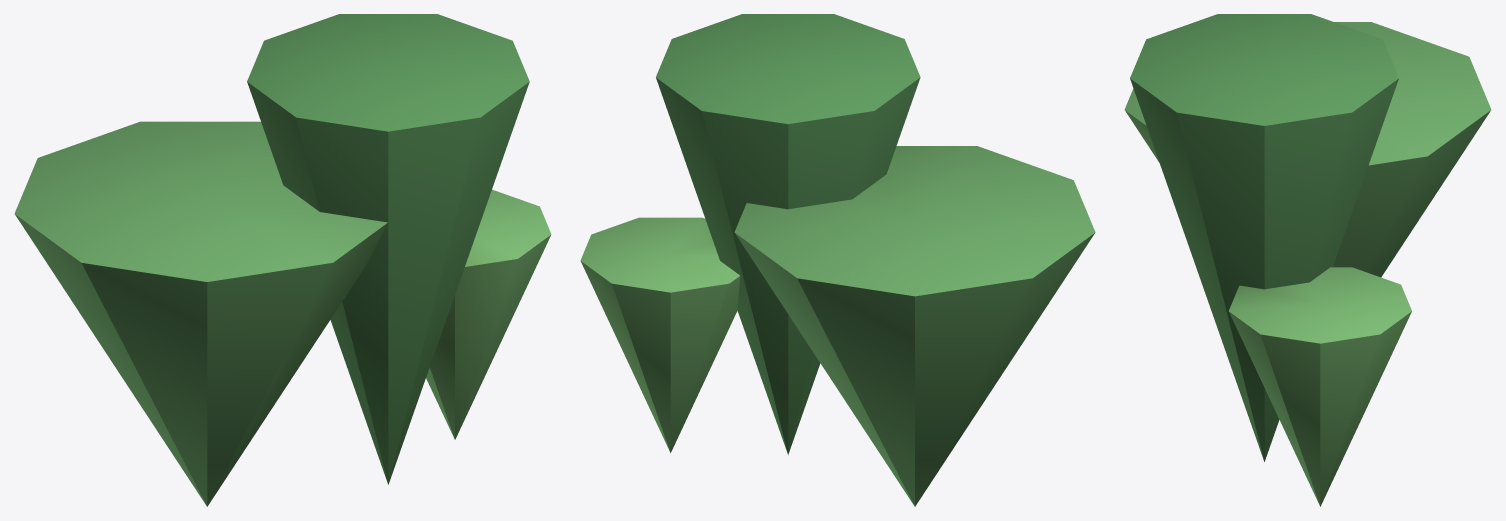
3 renders of one model, left to right at view 1: azimuth 30°, elevation 25°; view 2: azimuth 150°, elevation 25°; view 3: azimuth 270°, elevation 25°, orthographic. The views are drawn at different scales.
Visible parts, largest first — view 1: landmark_cb95a362; view 2: landmark_cb95a362; view 3: landmark_cb95a362.
Boxes of the visible parts, bbox=[...] form: landmark_cb95a362: bbox=[14, 14, 551, 506]; landmark_cb95a362: bbox=[580, 14, 1095, 506]; landmark_cb95a362: bbox=[1124, 14, 1491, 506].
Bounding box in the file's own units: 8.82 × 7 × 5.91.
